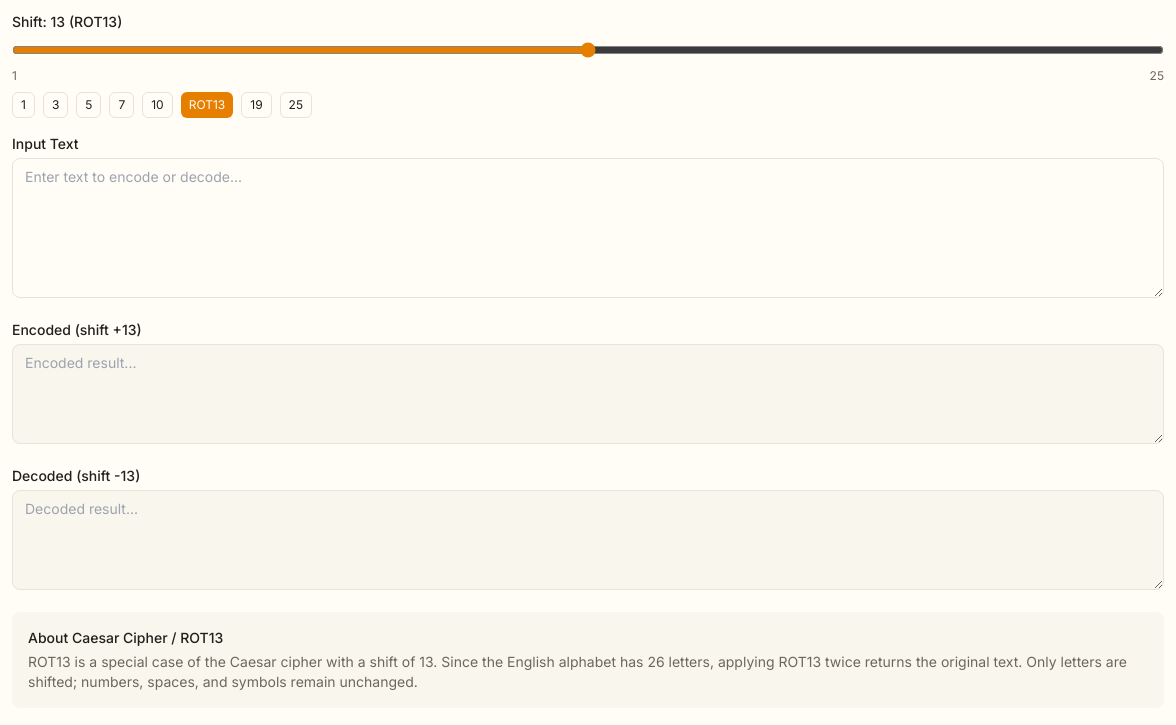
Test: Rot13Encoder › encodes with shift 1 (Caesar cipher shift by 1)
The width and height of the screenshot is (1176, 725).
Click the button "1" at (23, 105), box x1=12 y1=92 x2=35 y2=118
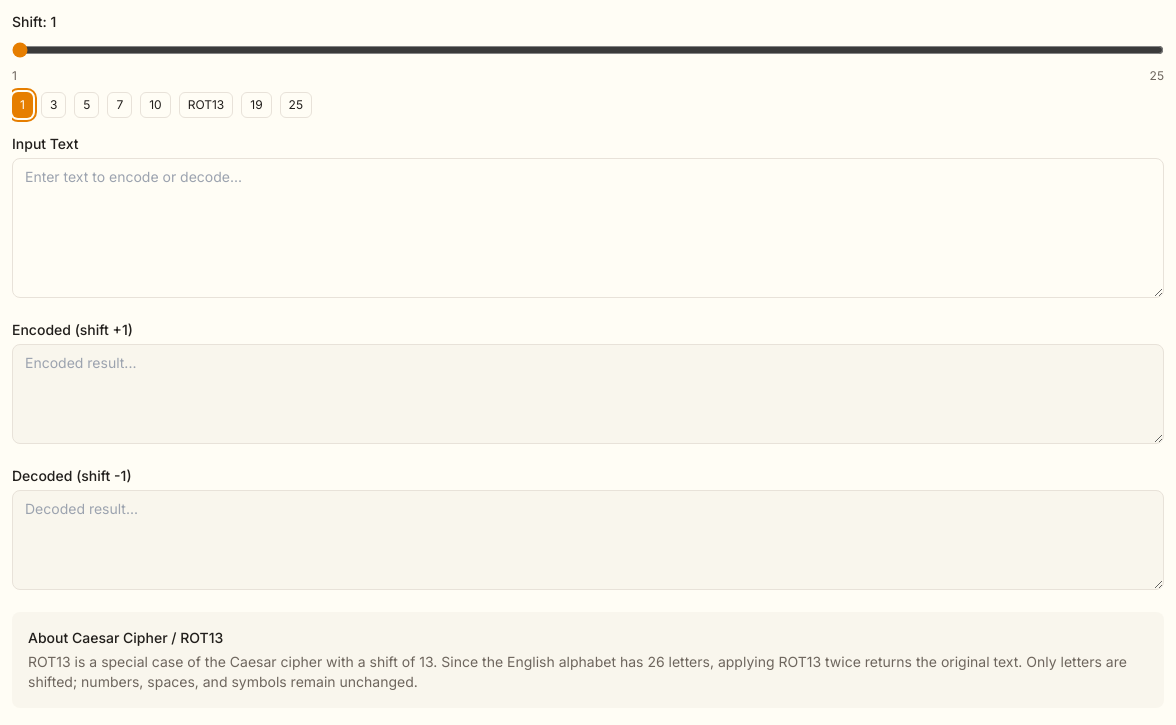
Type "abc" into the text box named "Text input" at (588, 228), box x1=12 y1=158 x2=1164 y2=298
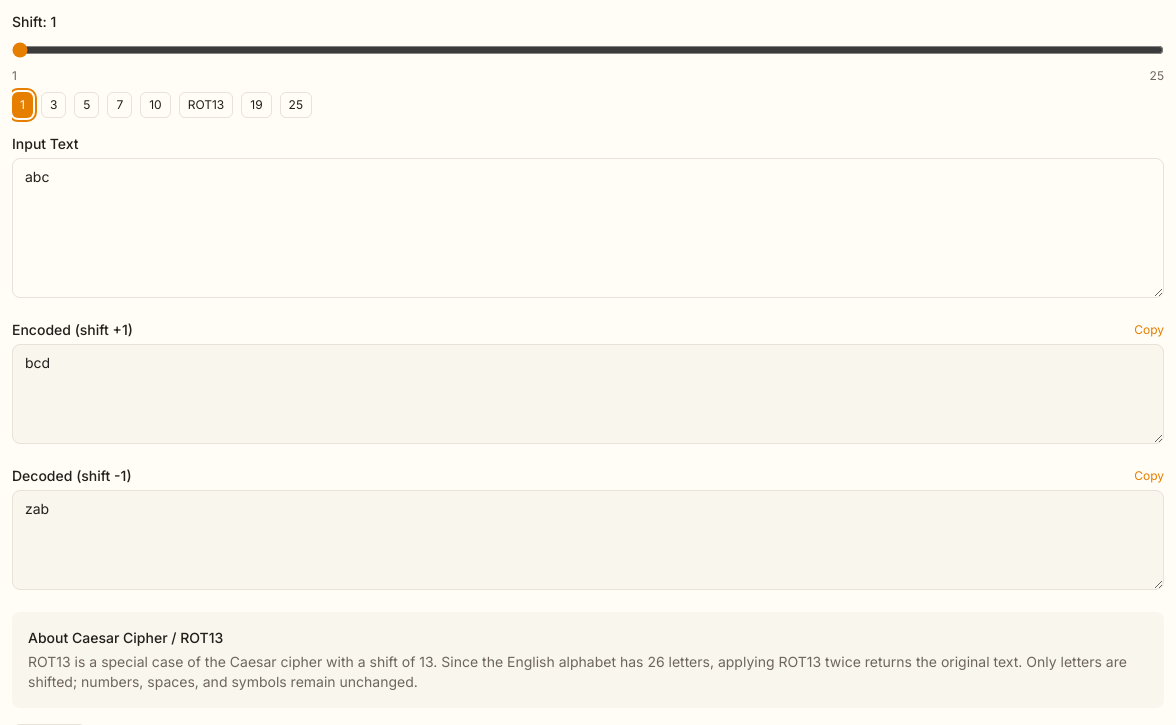
Expected: the text box named "Encoded output" holds "bcd", x1=12 y1=344 x2=1164 y2=444
